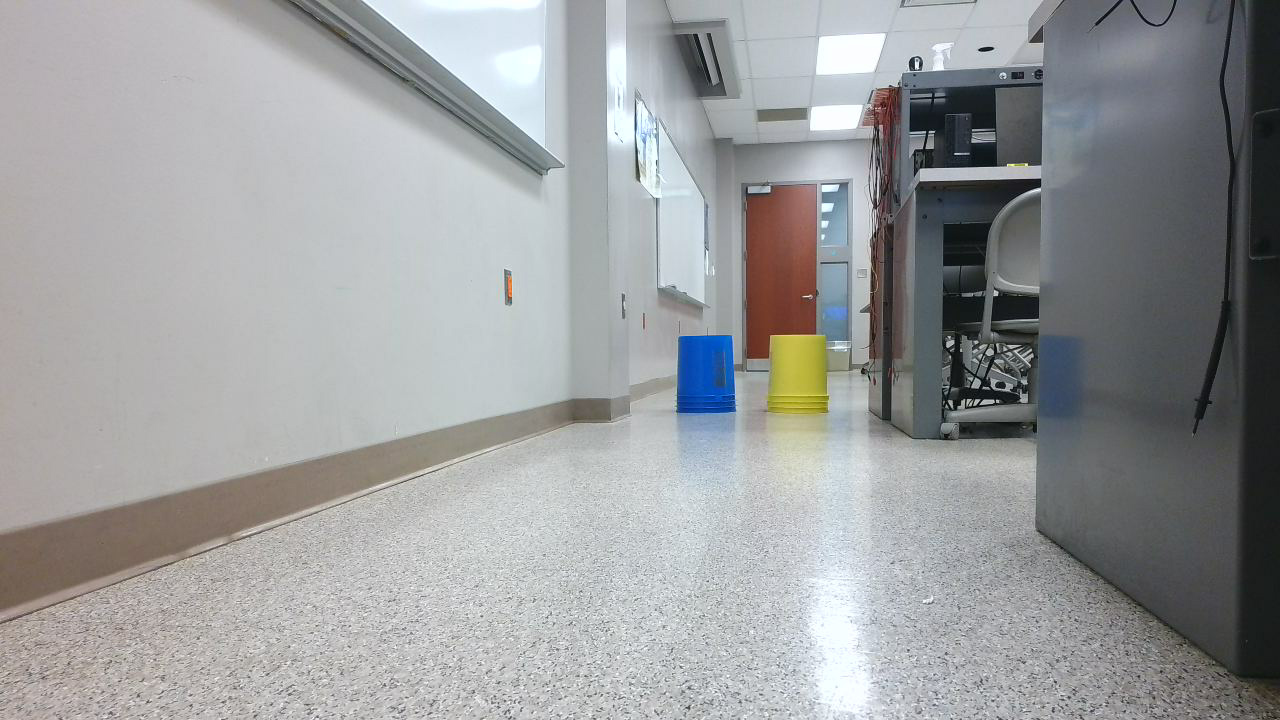blue_bucket: (677, 336, 747, 423)
yellow_bucket: (768, 336, 838, 423)
